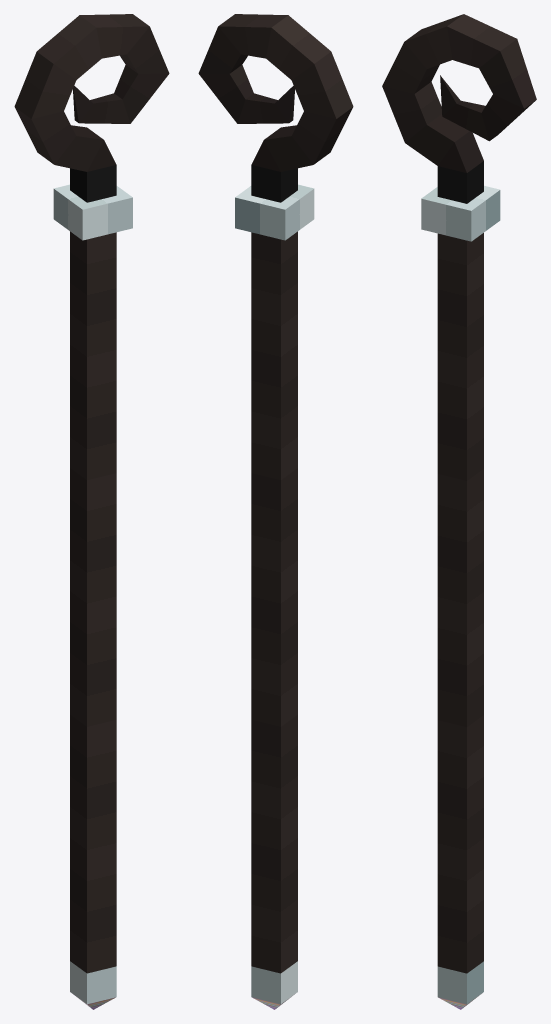
Rendered from staff_tarma.obj.
3 views of the same model, side by side, from view 1: azimuth 30°, elevation 25°; view 2: azimuth 150°, elevation 25°; view 3: azimuth 330°, elevation 25° (orthographic).
Visible parts, largest first — view 1: STAFF_VAR12_Cube.060; view 2: STAFF_VAR12_Cube.060; view 3: STAFF_VAR12_Cube.060.
Boxes of the visible parts, x1,y1,x2,y2 form: STAFF_VAR12_Cube.060: (14, 14, 169, 1009); STAFF_VAR12_Cube.060: (198, 14, 353, 1009); STAFF_VAR12_Cube.060: (382, 14, 536, 1009).
Bounding box in the file's own units: 0.2974 × 2.01 × 0.1067.
